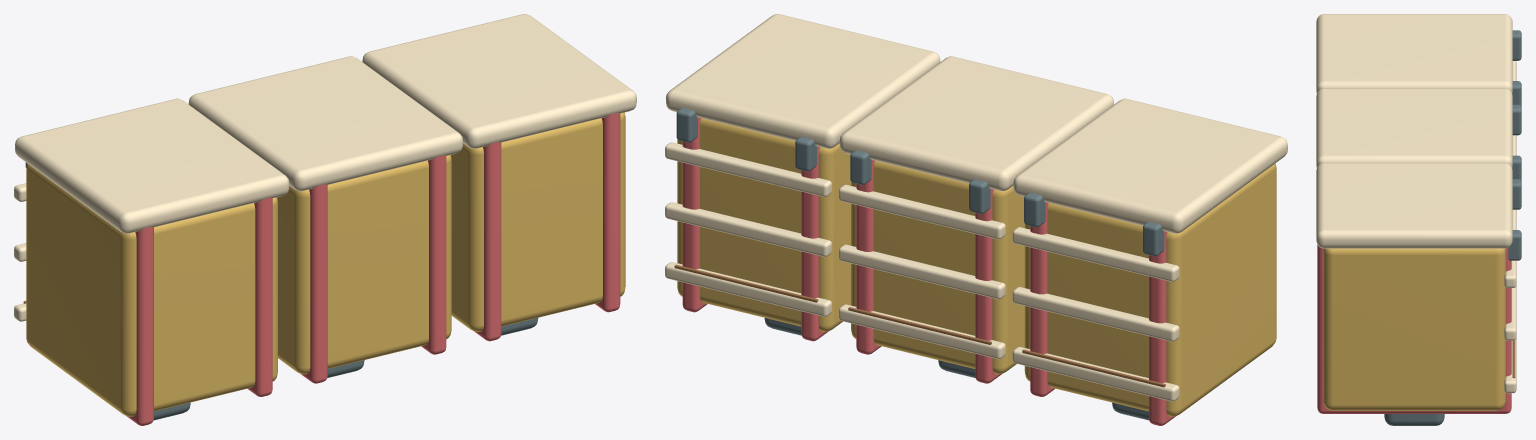
Rendered from broto_hoppers_crate.glb.
The picture shows the model from 3 angles, left to right: view 1: azimuth 30°, elevation 25°; view 2: azimuth 150°, elevation 25°; view 3: azimuth 270°, elevation 25°; orthographic projection. The views are drawn at different scales.
Visible parts, largest first — view 1: Hoppers, CraftDetails; view 2: Hoppers, CraftDetails; view 3: Hoppers, CraftDetails.
Boxes of the visible parts, left/top/right/bottom form: Hoppers: left=14, top=14, right=636, bottom=425; CraftDetails: left=23, top=162, right=538, bottom=420; Hoppers: left=665, top=14, right=1287, bottom=425; CraftDetails: left=674, top=108, right=1165, bottom=420; Hoppers: left=1316, top=14, right=1516, bottom=413; CraftDetails: left=1384, top=30, right=1521, bottom=425.
Bounding box in the file's own units: 2.35 × 1.09 × 0.92.
